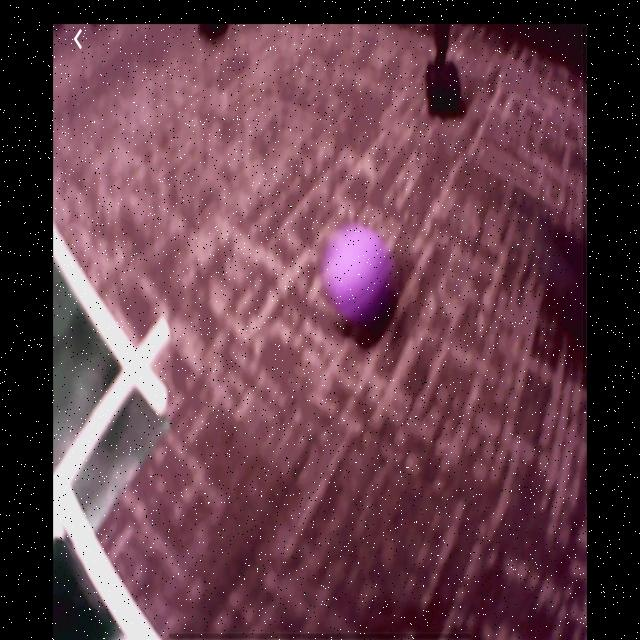ball: (320, 222, 402, 344)
